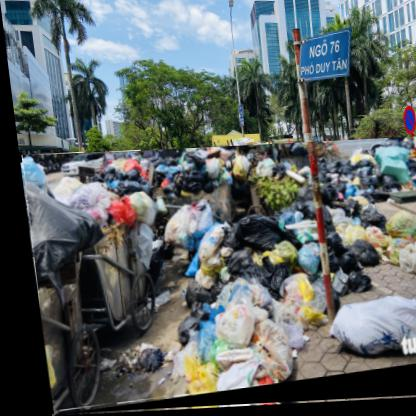Garbage: (16, 141, 416, 416)
